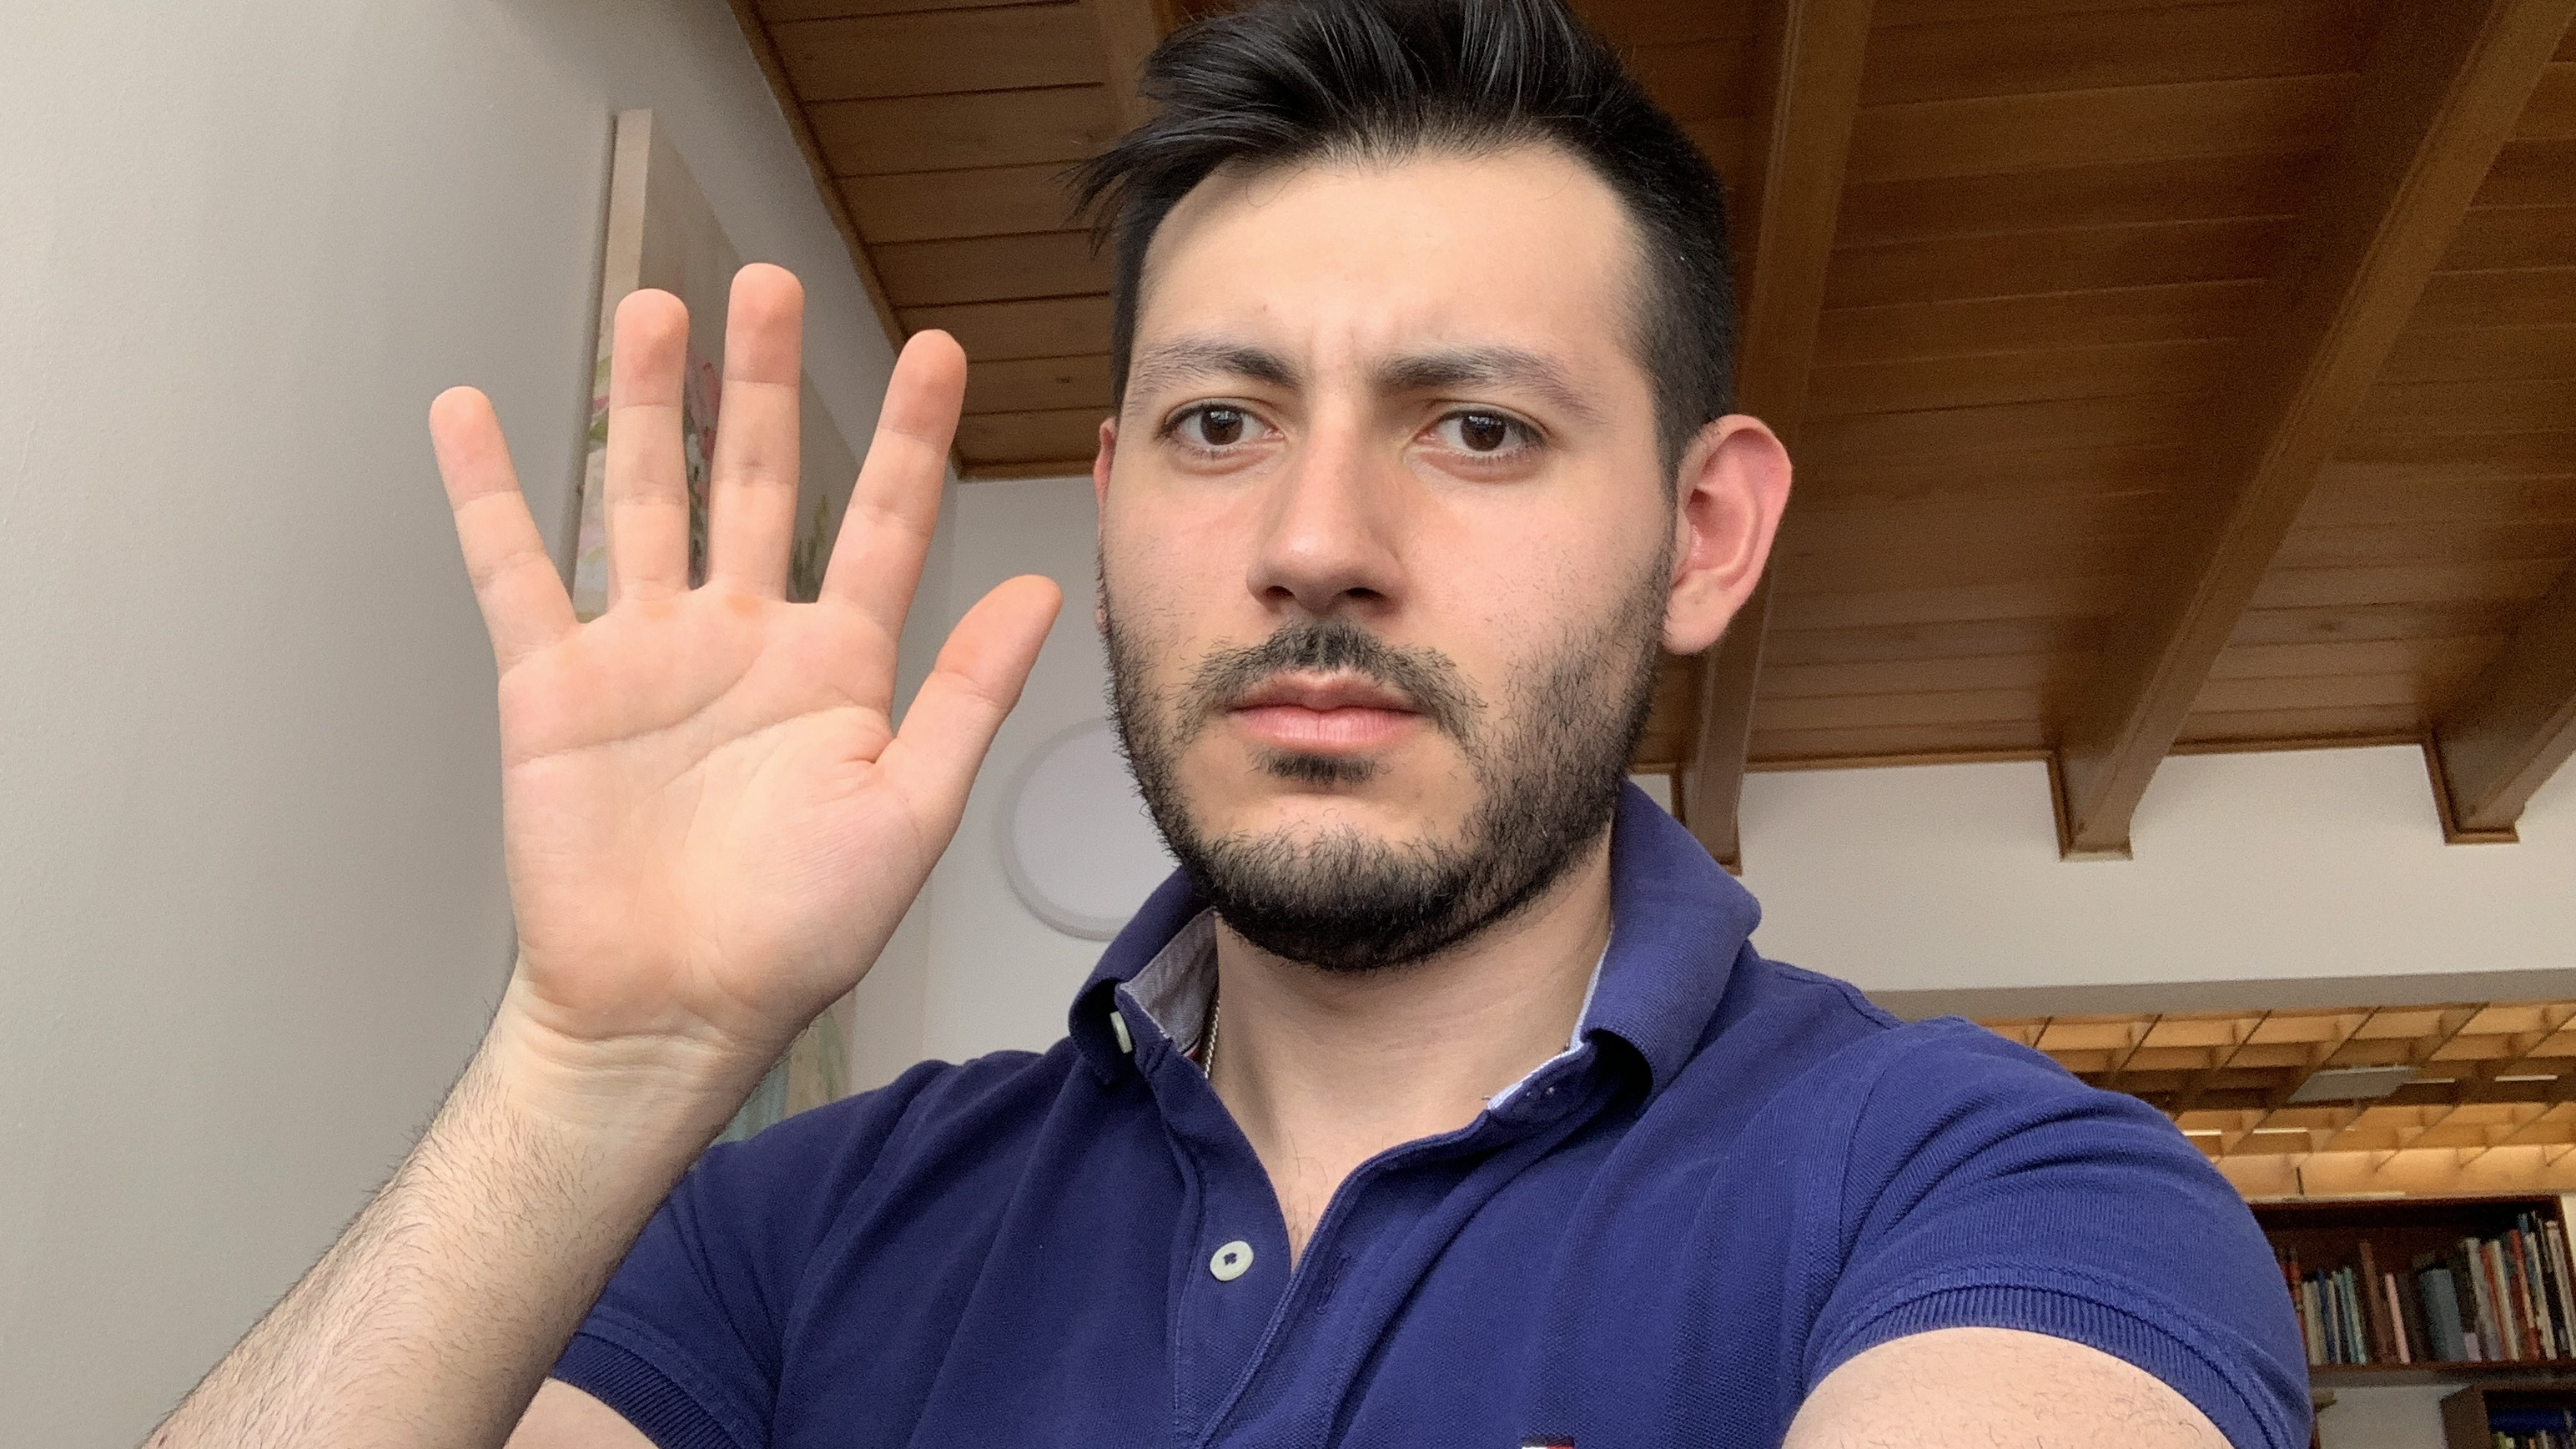Hello: (412, 244, 1085, 1131)
